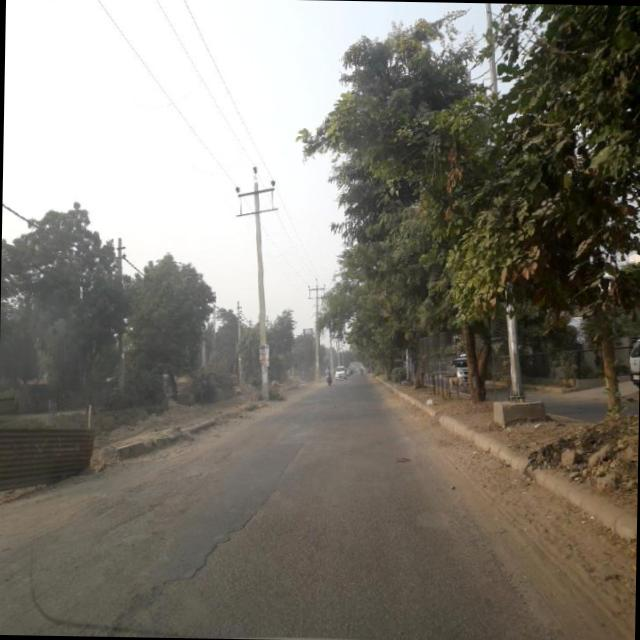pothole: (86, 569, 245, 638), (94, 488, 186, 560)
